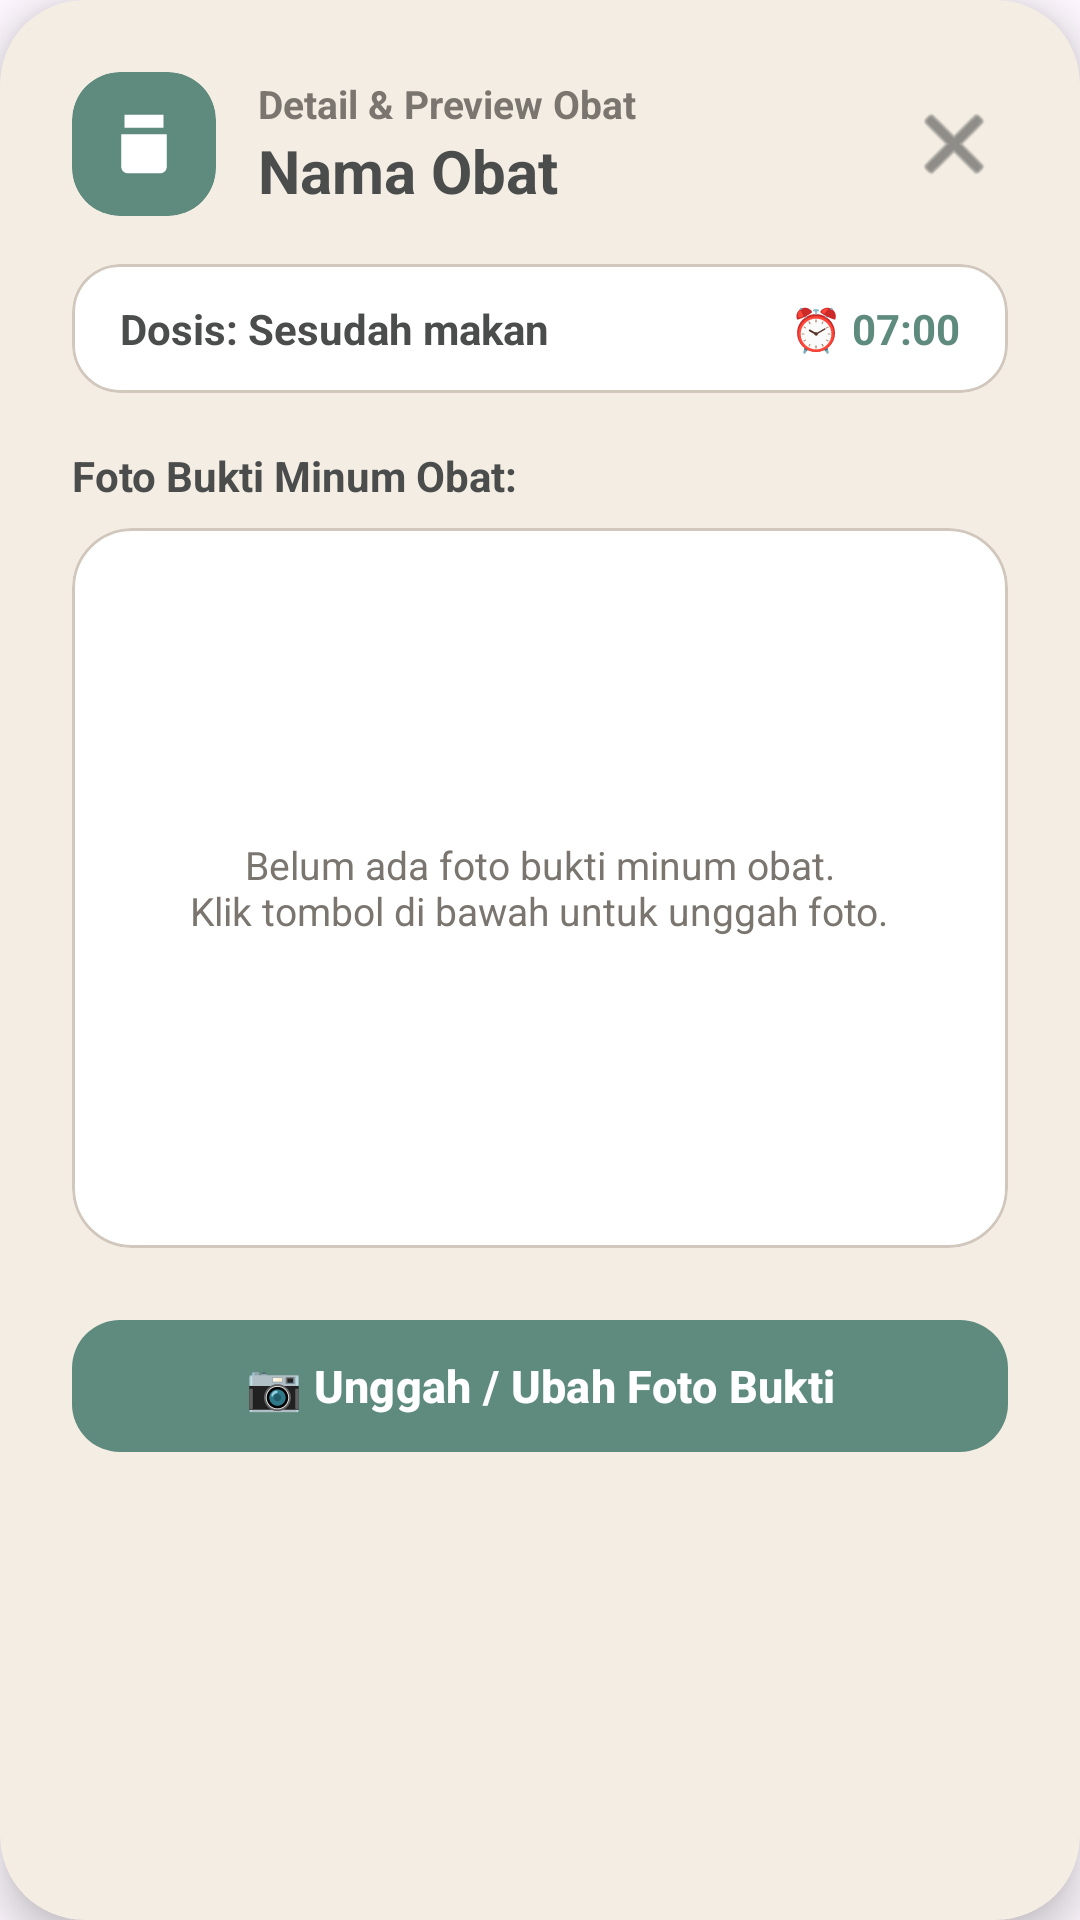

Named icons in this screenshot (1080 × 1920) and their centers, [x,y]:
pill: [144,144]
Tutup: [954,144]
